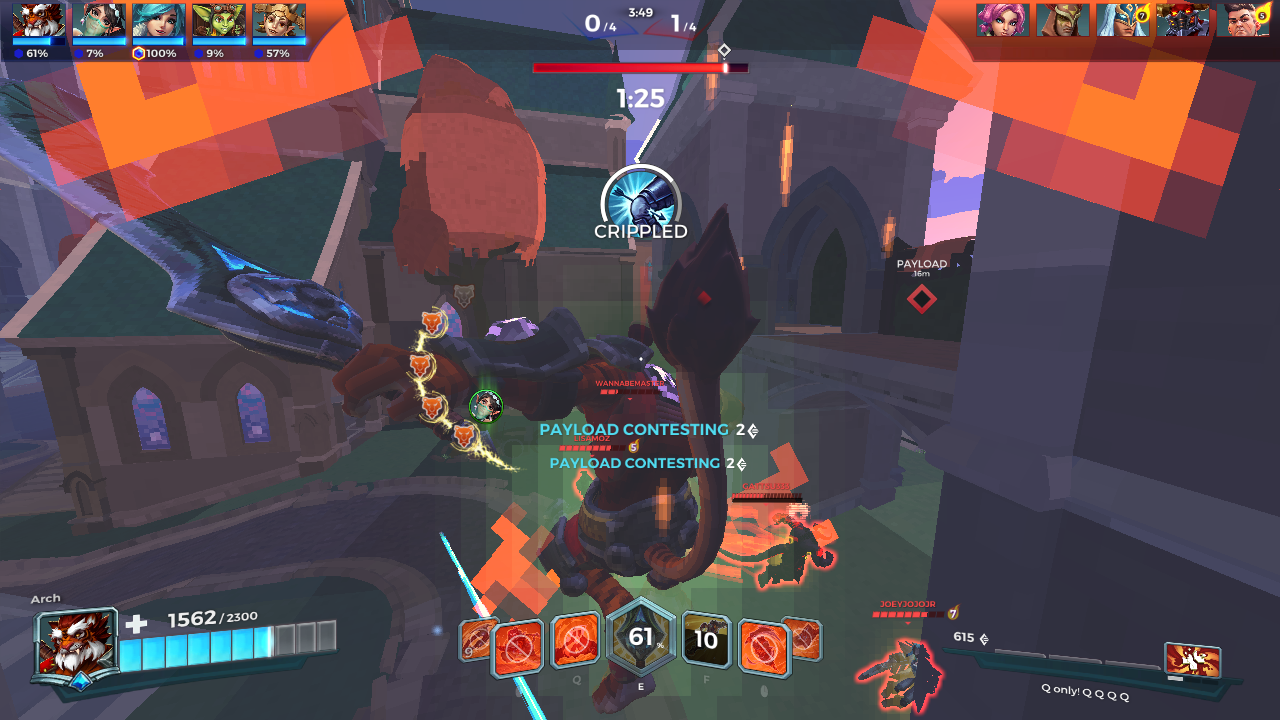model: (848, 632, 944, 717), (748, 510, 832, 596), (572, 469, 596, 503)
